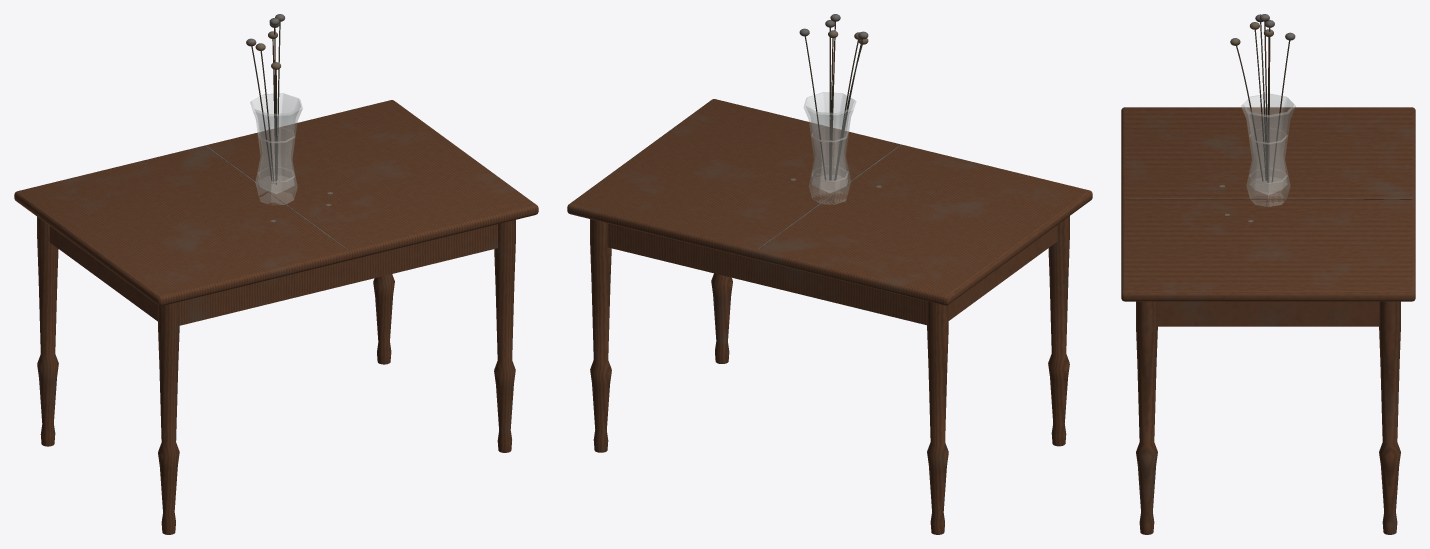
The model's file is SM_DiningTable_Extendable.fbx.
3 views of the same model, side by side, from view 1: azimuth 30°, elevation 25°; view 2: azimuth 150°, elevation 25°; view 3: azimuth 270°, elevation 25° (orthographic).
Parts seen in each view (by area): view 1: SM_DiningTable_Extendable; view 2: SM_DiningTable_Extendable; view 3: SM_DiningTable_Extendable.
Boxes of the visible parts, x1=… form: SM_DiningTable_Extendable: x1=14, y1=14, x2=538, y2=534; SM_DiningTable_Extendable: x1=567, y1=14, x2=1092, y2=534; SM_DiningTable_Extendable: x1=1121, y1=14, x2=1415, y2=534.
Bounding box in the file's own units: 1.2 × 1.3 × 0.8.
2 materials, 1 textured.
